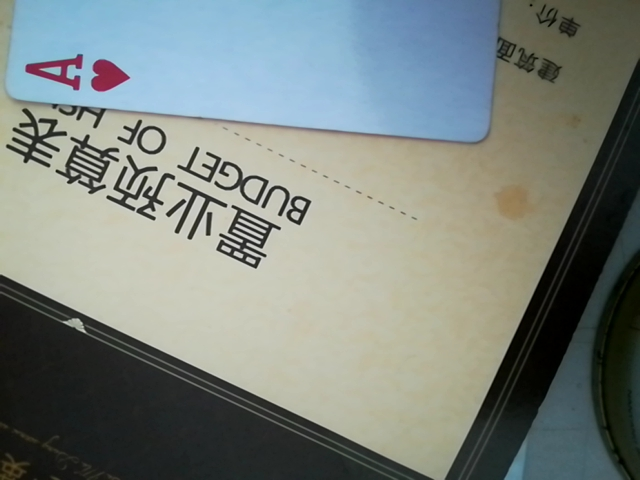hx a: (6, 0, 519, 143)
